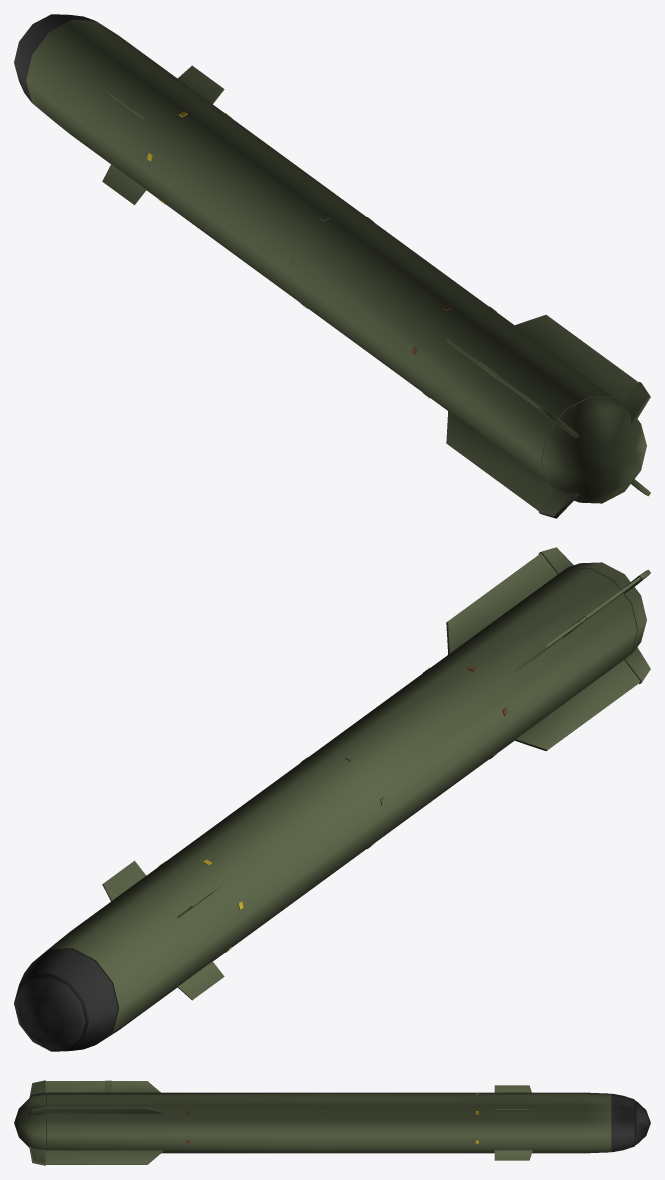
Rendered from w_hellfire.glb.
The picture shows the model from 3 angles, top to bottom: view 1: azimuth 30°, elevation 25°; view 2: azimuth 150°, elevation 25°; view 3: azimuth 270°, elevation 25°; orthographic projection. The views are drawn at different scales.
Parts seen in each view (by area): view 1: body|Fuselage_2, body|Fuselage_2#nose; view 2: body|Fuselage_2, body|Fuselage_2#nose; view 3: body|Fuselage_2, body|Fuselage_2#nose.
Part boxes in pixels (box(x1,y1,x2,y2)): body|Fuselage_2: box(26, 20, 650, 518); body|Fuselage_2#nose: box(14, 14, 94, 101); body|Fuselage_2: box(36, 547, 650, 1043); body|Fuselage_2#nose: box(15, 948, 118, 1051); body|Fuselage_2: box(14, 1080, 611, 1165); body|Fuselage_2#nose: box(612, 1093, 650, 1152).
Bounding box in the file's own units: 0.1676 × 0.1676 × 1.63.
